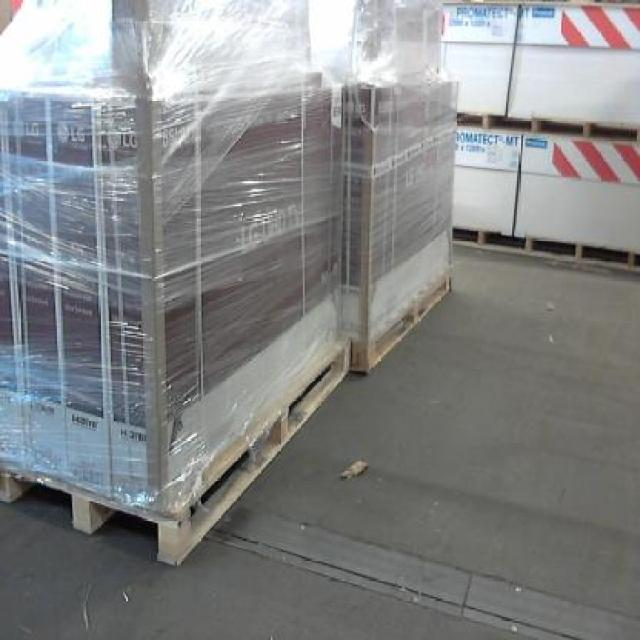ground: (0, 243, 638, 638)
pallet: (0, 330, 350, 573), (347, 260, 456, 377), (446, 221, 638, 272), (454, 109, 638, 143)
